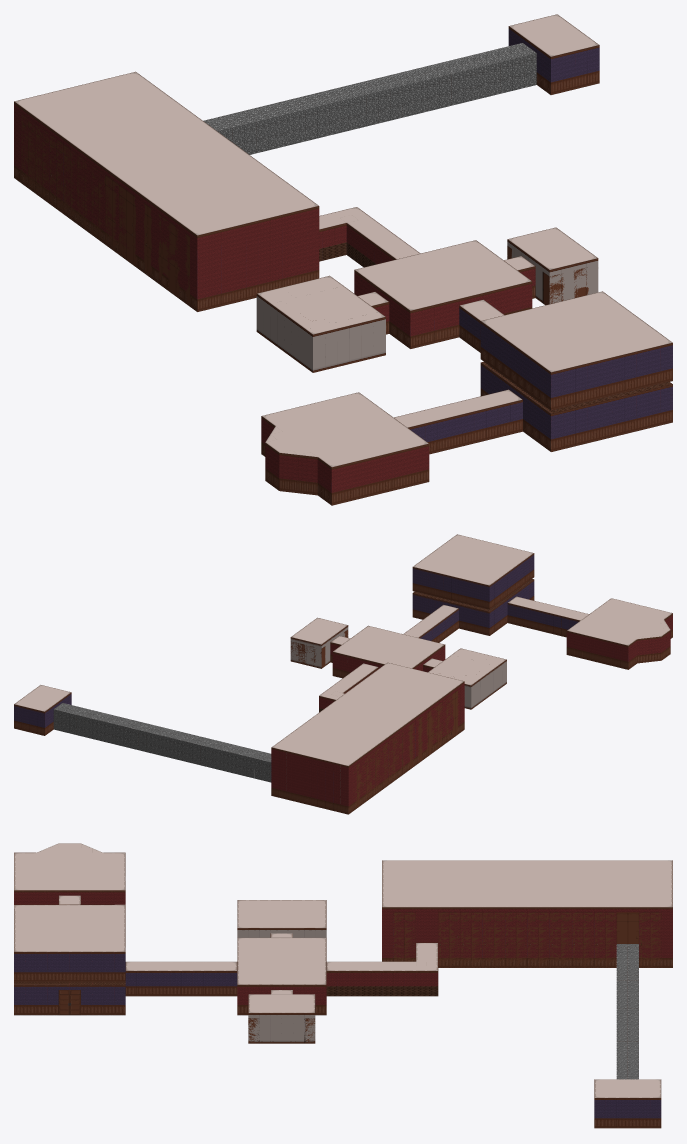
File: mansion.obj
3 renders of one model, top to bottom at view 1: azimuth 30°, elevation 25°; view 2: azimuth 150°, elevation 25°; view 3: azimuth 270°, elevation 25°, orthographic. The views are drawn at different scales.
Visible parts, largest first — view 1: Cube.039; view 2: Cube.039; view 3: Cube.039.
Boxes of the visible parts, x1,y1,x2,y2 form: Cube.039: (14,14,672,505); Cube.039: (14,534,672,814); Cube.039: (14,843,672,1128).
Bounding box in the file's own units: 54.25 × 6.5 × 59.04.
